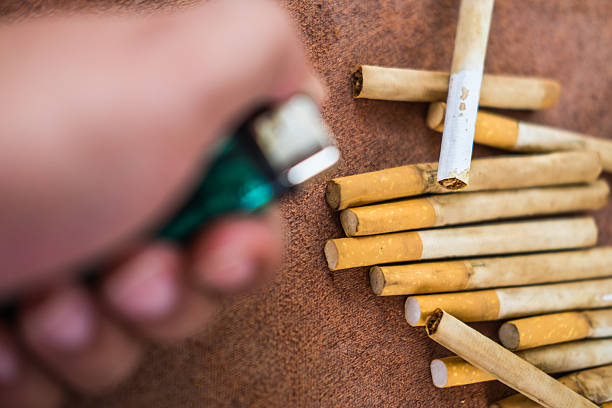cigarette: (425, 308, 612, 408), (322, 150, 603, 211), (337, 177, 612, 238), (321, 216, 601, 273), (367, 244, 612, 298), (426, 100, 612, 169), (436, 0, 495, 194), (402, 275, 612, 328), (430, 335, 612, 391), (349, 64, 559, 109), (486, 364, 612, 408), (499, 305, 612, 351)
